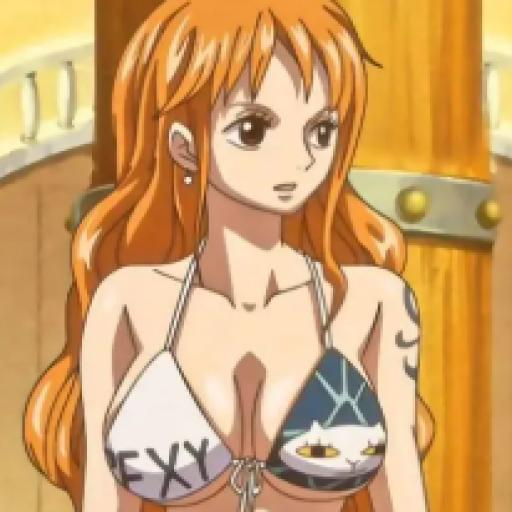Nami: (24, 0, 455, 512)
